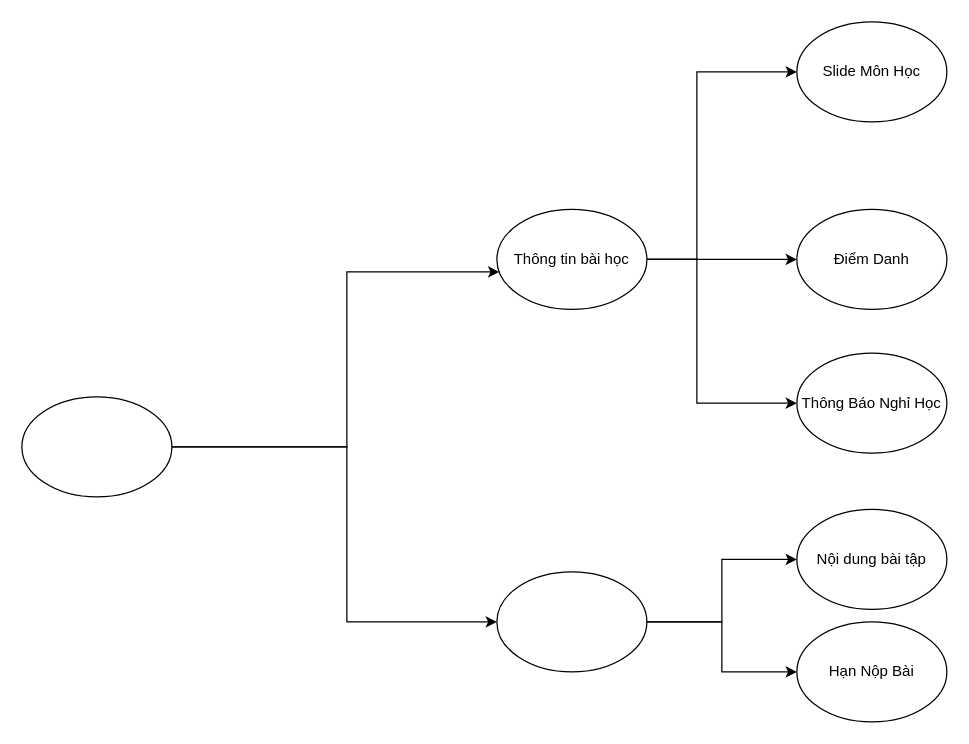
Some shapes in this 969 by 744 pixel diagram are drawn without their labels. Here are the shapes that lost their labels. From the top down, the centre of each, then its label:
At [96,446]: "Tạo Thông Báo Lớp Học".
At [571,621]: "Tạo Bài tập".
